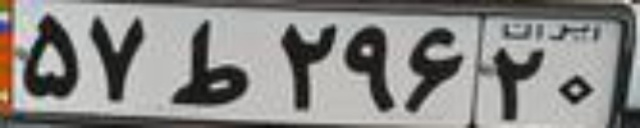0: (554, 76, 597, 105)
2: (276, 21, 333, 111), (490, 46, 549, 121)
5: (20, 15, 80, 97)
6: (404, 26, 463, 113)
7: (89, 15, 148, 102)
9: (342, 25, 397, 111)
taa: (168, 16, 249, 105)
